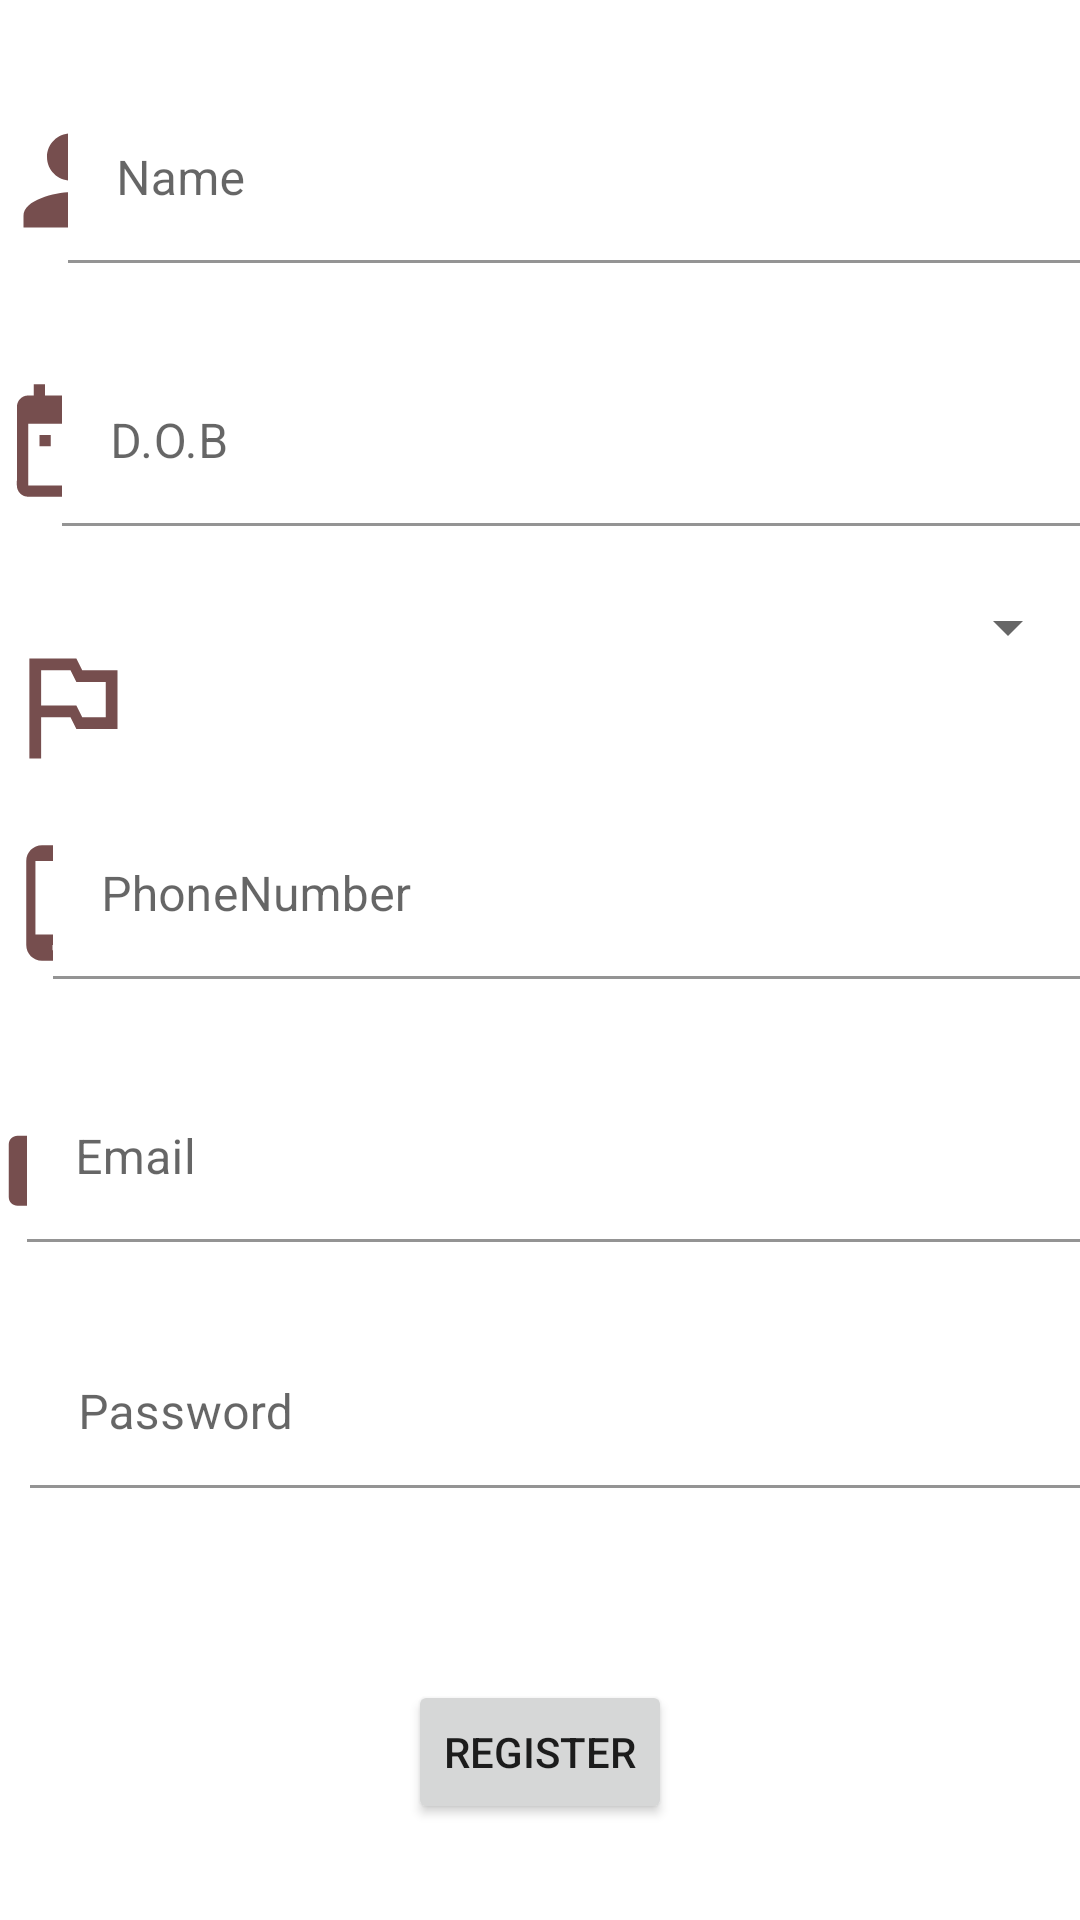

Icons on this 1080x1920 Android screen, each with its box as (x1, y1, x2, y2):
flag: (29, 658, 118, 759)
